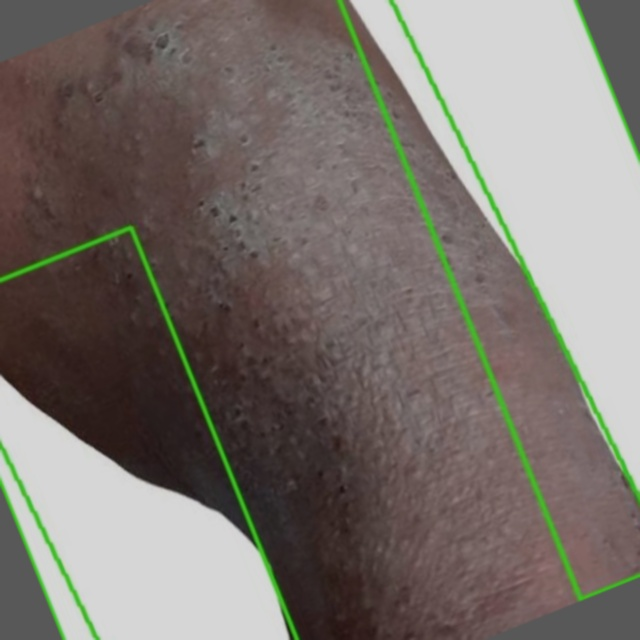Contact Dermatitis: (0, 0, 639, 639), (339, 0, 639, 599), (0, 227, 297, 639)
